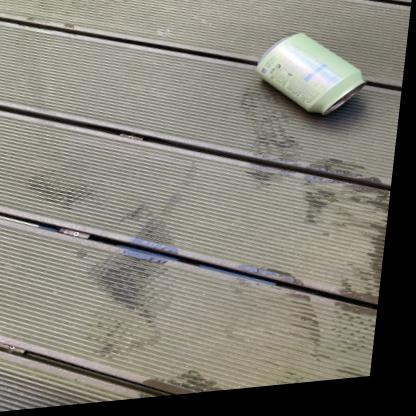trash: (256, 33, 364, 114)
